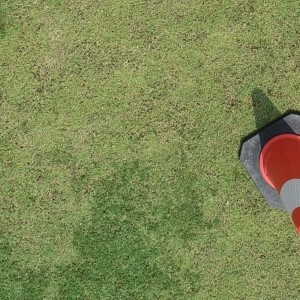traffic cone: (239, 113, 300, 229)
